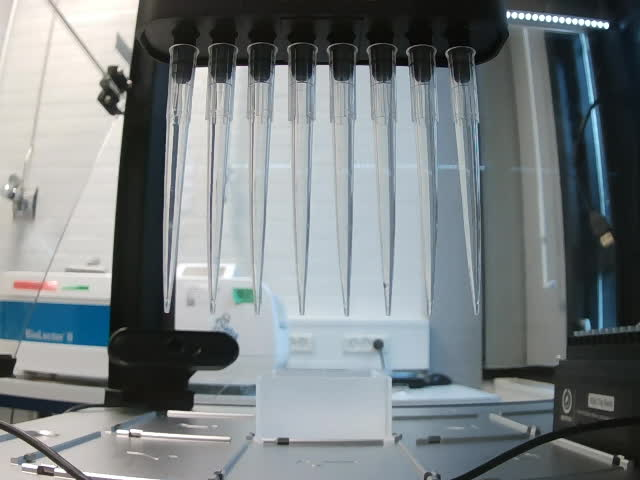pipet: (444, 46, 485, 317), (162, 44, 199, 315), (365, 43, 400, 317), (404, 45, 439, 317), (245, 42, 278, 316), (287, 43, 320, 317), (205, 43, 238, 315), (327, 43, 357, 317)
